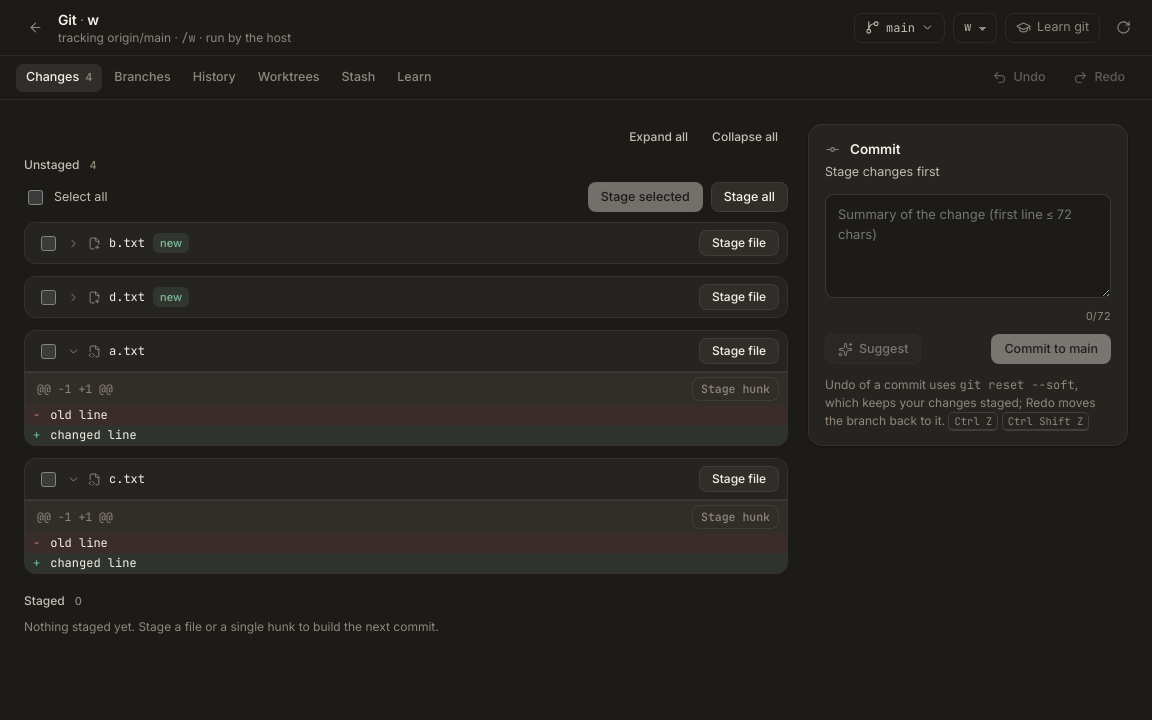
Expand all and Collapse all › open every file, new ones too, and fold every file back
The width and height of the screenshot is (1152, 720).
Expected: the text "b.txt" is shown, [109,234,145,252]
Note: one tracked file folded by hand, to show that Expand all undoes it
Step 1. Click the button with aria-label "Collapse a.txt" → (106, 351), box [63,340,149,362]
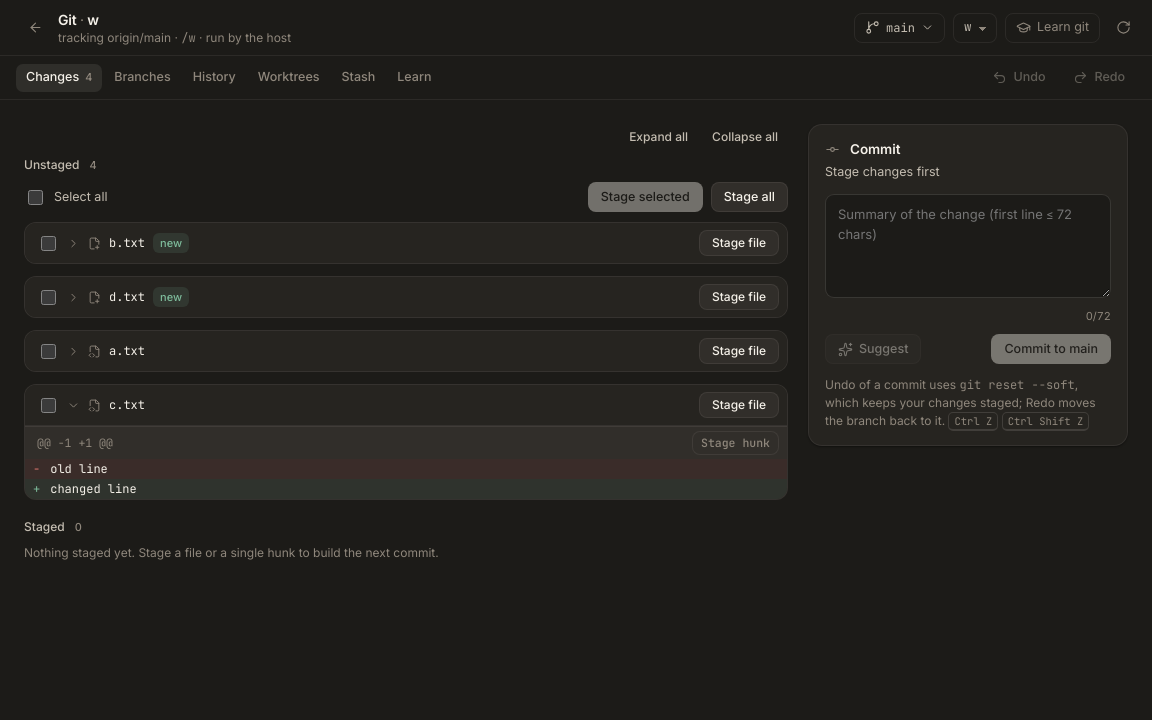
Now the text "changed line" is shown once, box [40,479,787,499]
Step 2. Click the button "Expand all" → (659, 137), box [619,124,698,150]
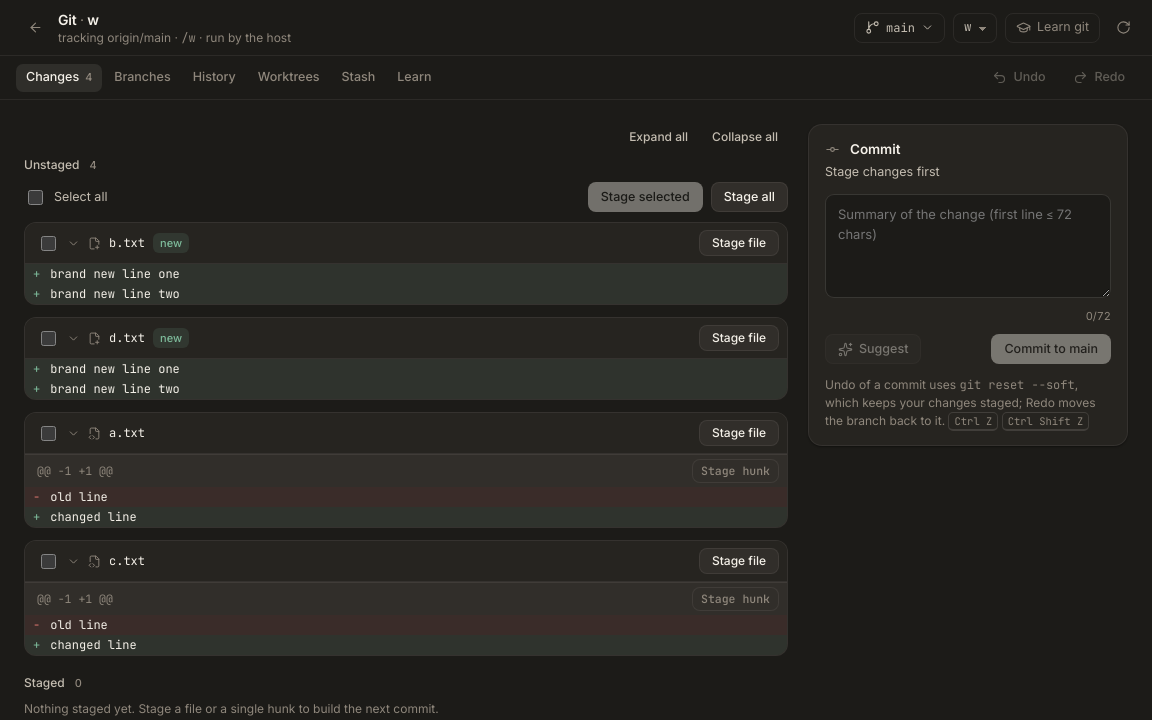
Now the text "brand new line one" is shown 2 times, box [40,264,787,284]; [40,359,787,379]
Now the text "changed line" is shown 2 times, box [40,507,787,527]; [40,635,787,655]
Step 3. Click the button "Collapse all" → (745, 137), box [702,124,788,150]
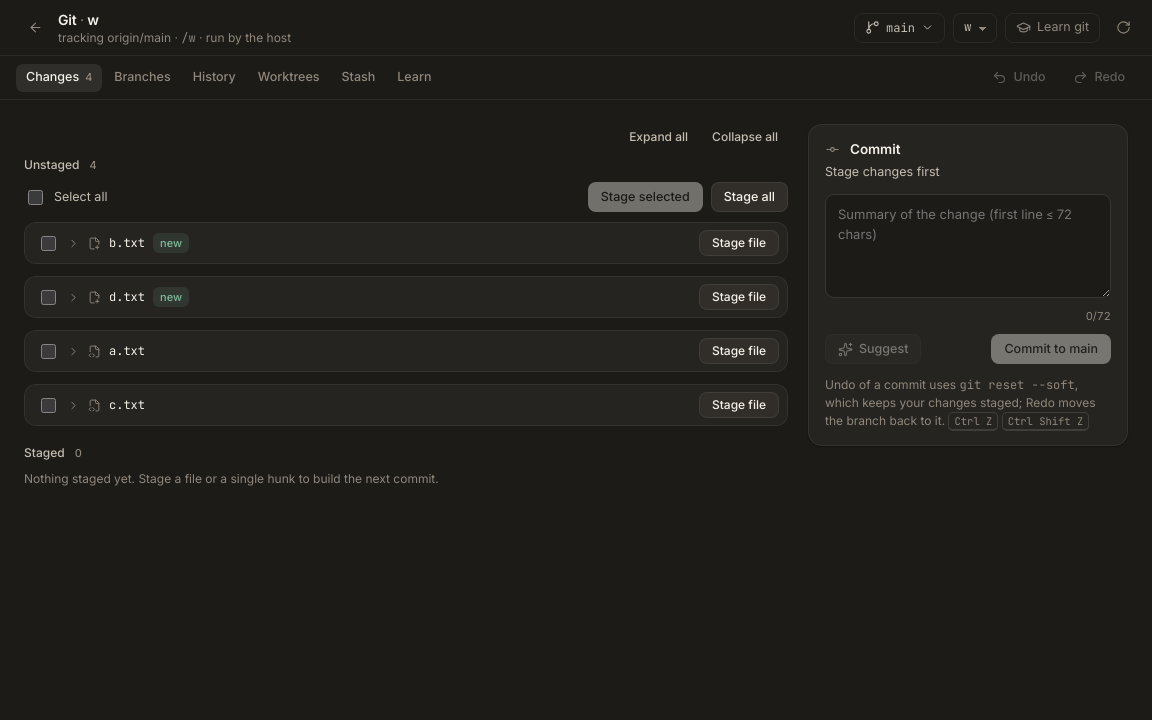
Expected: the text "a.txt" is shown, [109,342,145,360]
Now the text "changed line" is gone
Now the text "brand new line one" is gone
Step 4. Click the button with aria-label "Expand c.txt" → (106, 405), box [63,394,149,416]
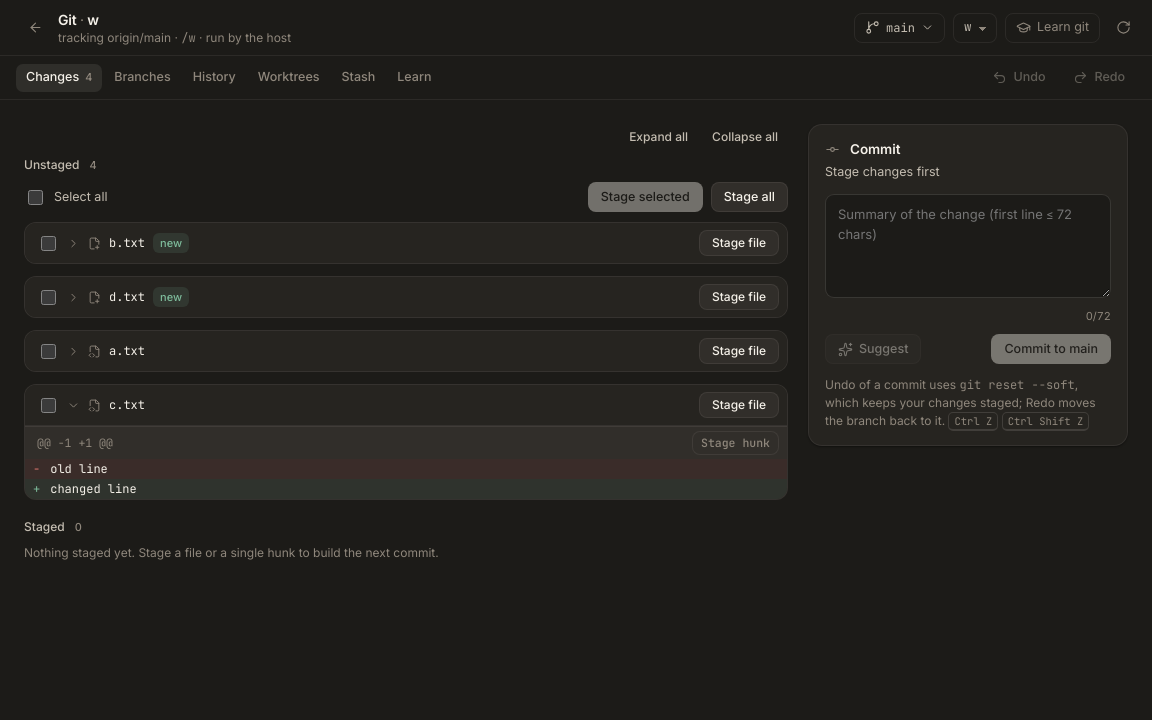
Now the text "changed line" is shown once, box [40,479,787,499]
